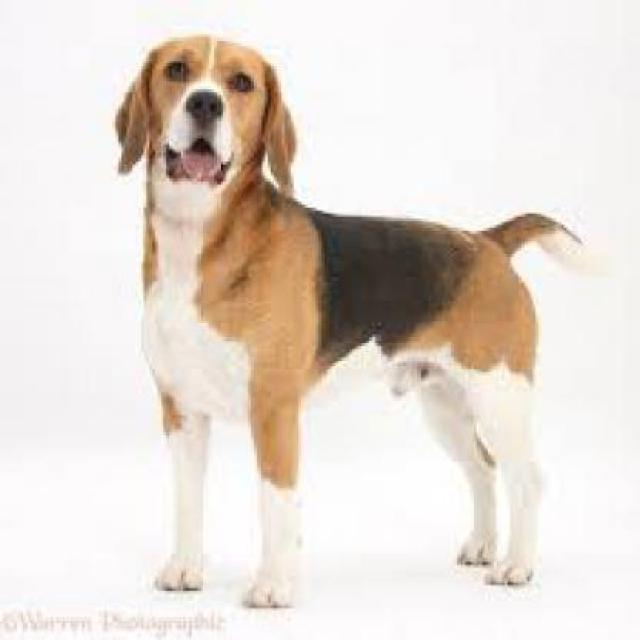Dog: (111, 31, 594, 618)
